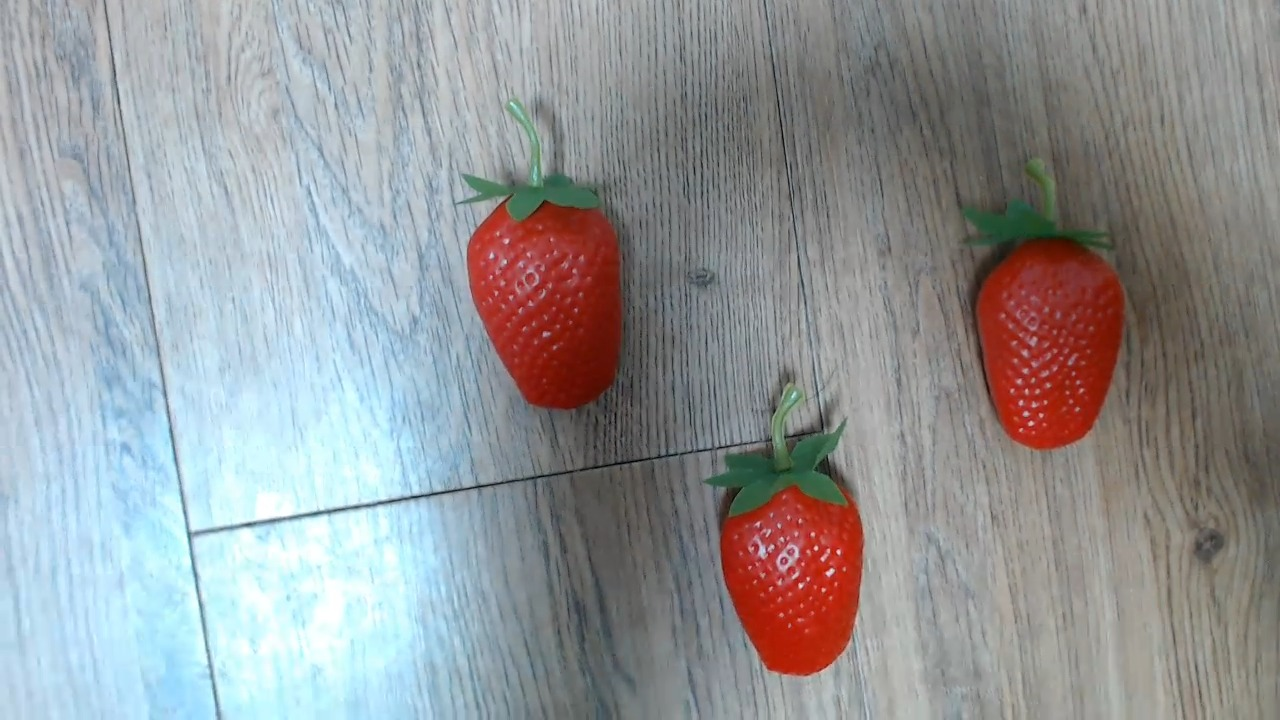strawberry: (449, 160, 637, 421), (961, 199, 1132, 456)
